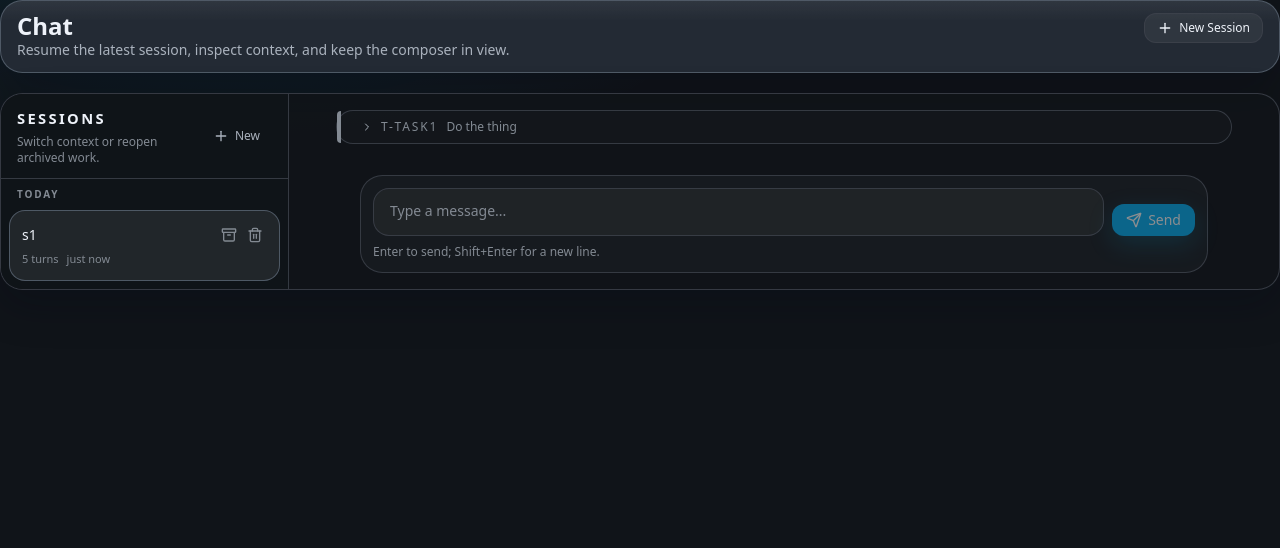
Test: Chat › status_report >= 3: consecutive status_reports collapse into one StatusReportGroup with 'N 步进展' header
// Closed thread (result_delivery present) is collapsed by default — click to expand
Click the button with test id "thread-toggle" at (410, 127), box 349,111 -> 1231,143
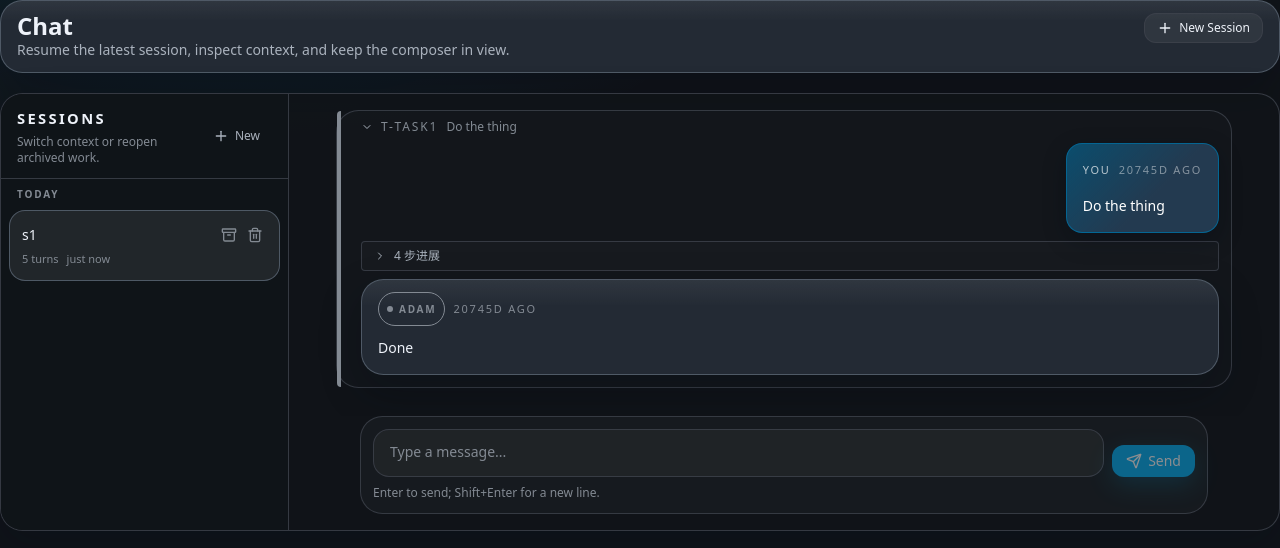
Check: the element with test id "status-report-group" is shown, box 361,241 -> 1219,271
Check: the text "4 步进展" is shown, box 394,248 -> 440,264
